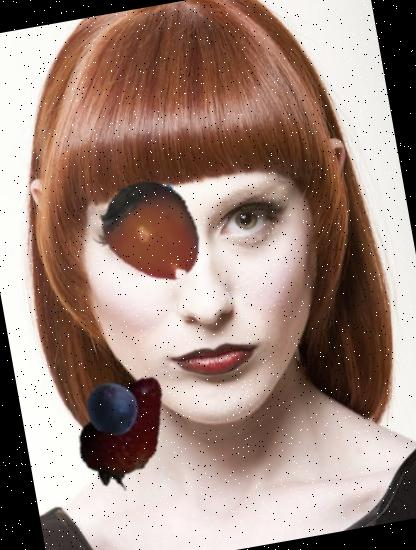Kaki: (90, 166, 218, 296)
Plum: (80, 377, 144, 440)
Strawberry: (66, 373, 190, 497)
